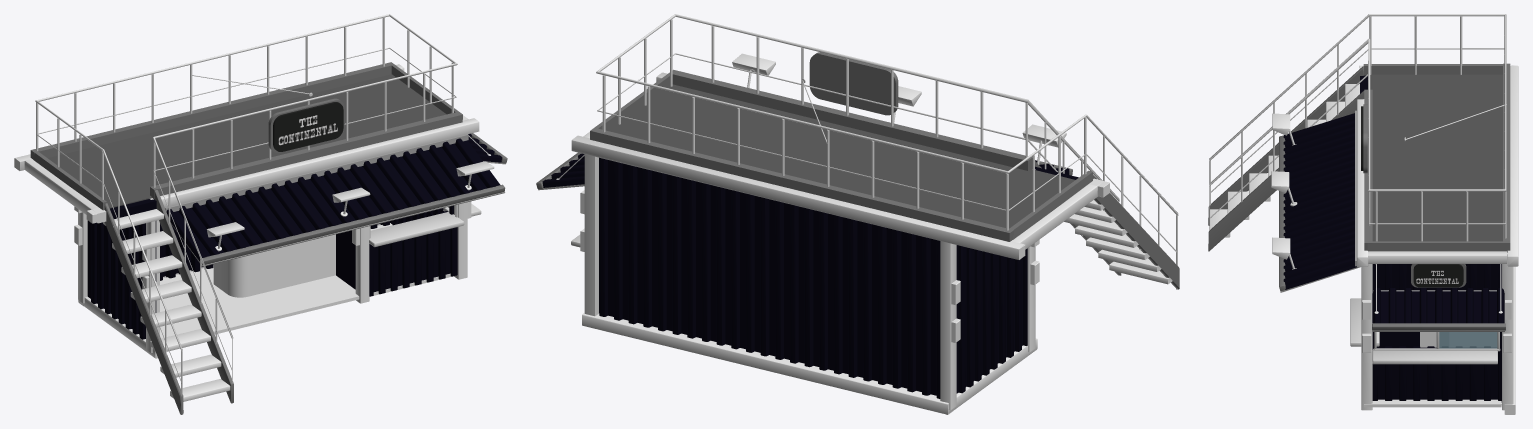
The model's file is Cafe.fbx.
The picture shows the model from 3 angles, left to right: view 1: azimuth 30°, elevation 25°; view 2: azimuth 150°, elevation 25°; view 3: azimuth 270°, elevation 25°; orthographic projection. The views are drawn at different scales.
Visible parts, largest first — view 1: pCube191, pCube41, Railing006, pCube175, pCube152, pCube5, pCube36, pCube156, pCube187, pCube183, pCube35, pCube42 (+18 smaller); view 2: pCube180, pCube41, Railing006, pCube183, pCube154, pCube164, pCube36, pCube35, pCube47, pCube152, pCube147.001, pCube170 (+7 smaller); view 3: pCube41, pCube191, pCube186, Railing006, pCube198, pCube167, pCube154, pCube155, pCube147, pCube26, pCube152, pCube170 (+21 smaller).
Part boxes in pixels (x1,y1,x2,y2): pCube191: [166, 138, 500, 261]; pCube41: [48, 74, 446, 208]; Railing006: [35, 14, 457, 395]; pCube175: [160, 223, 451, 338]; pCube152: [103, 209, 230, 401]; pCube5: [213, 234, 335, 297]; pCube36: [30, 62, 394, 159]; pCube156: [160, 118, 479, 207]; pCube187: [369, 227, 457, 296]; pCube183: [87, 220, 156, 339]; pCube35: [150, 112, 462, 199]; pCube42: [273, 102, 343, 151]; pCube180: [599, 157, 940, 398]; pCube41: [608, 84, 1075, 228]; Railing006: [596, 14, 1178, 289]; pCube183: [956, 245, 1027, 393]; pCube154: [571, 135, 1025, 259]; pCube164: [582, 313, 953, 414]; pCube36: [590, 128, 1013, 241]; pCube35: [669, 69, 1032, 170]; pCube47: [809, 52, 898, 115]; pCube152: [1064, 200, 1172, 284]; pCube147.001: [940, 241, 960, 409]; pCube170: [580, 154, 598, 316]; pCube41: [1370, 74, 1502, 241]; pCube191: [1283, 113, 1357, 289]; pCube186: [1372, 264, 1501, 402]; Railing006: [1209, 14, 1506, 241]; pCube198: [1372, 288, 1504, 323]; pCube167: [1372, 349, 1497, 364]; pCube154: [1507, 65, 1518, 266]; pCube155: [1368, 251, 1506, 263]; pCube147: [1361, 264, 1372, 410]; pCube26: [1208, 91, 1364, 251]; pCube152: [1210, 84, 1359, 237]; pCube170: [1502, 252, 1513, 410].
Bounding box in the file's own units: 836 × 413 × 524.
13 materials, 3 textured.
